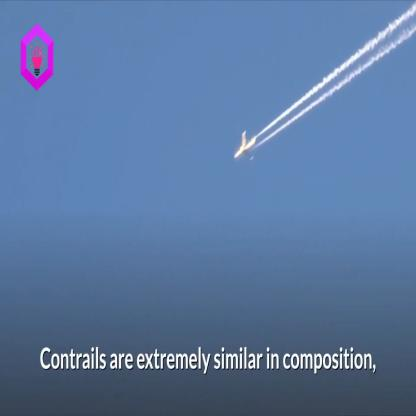plane: (230, 127, 260, 166)
